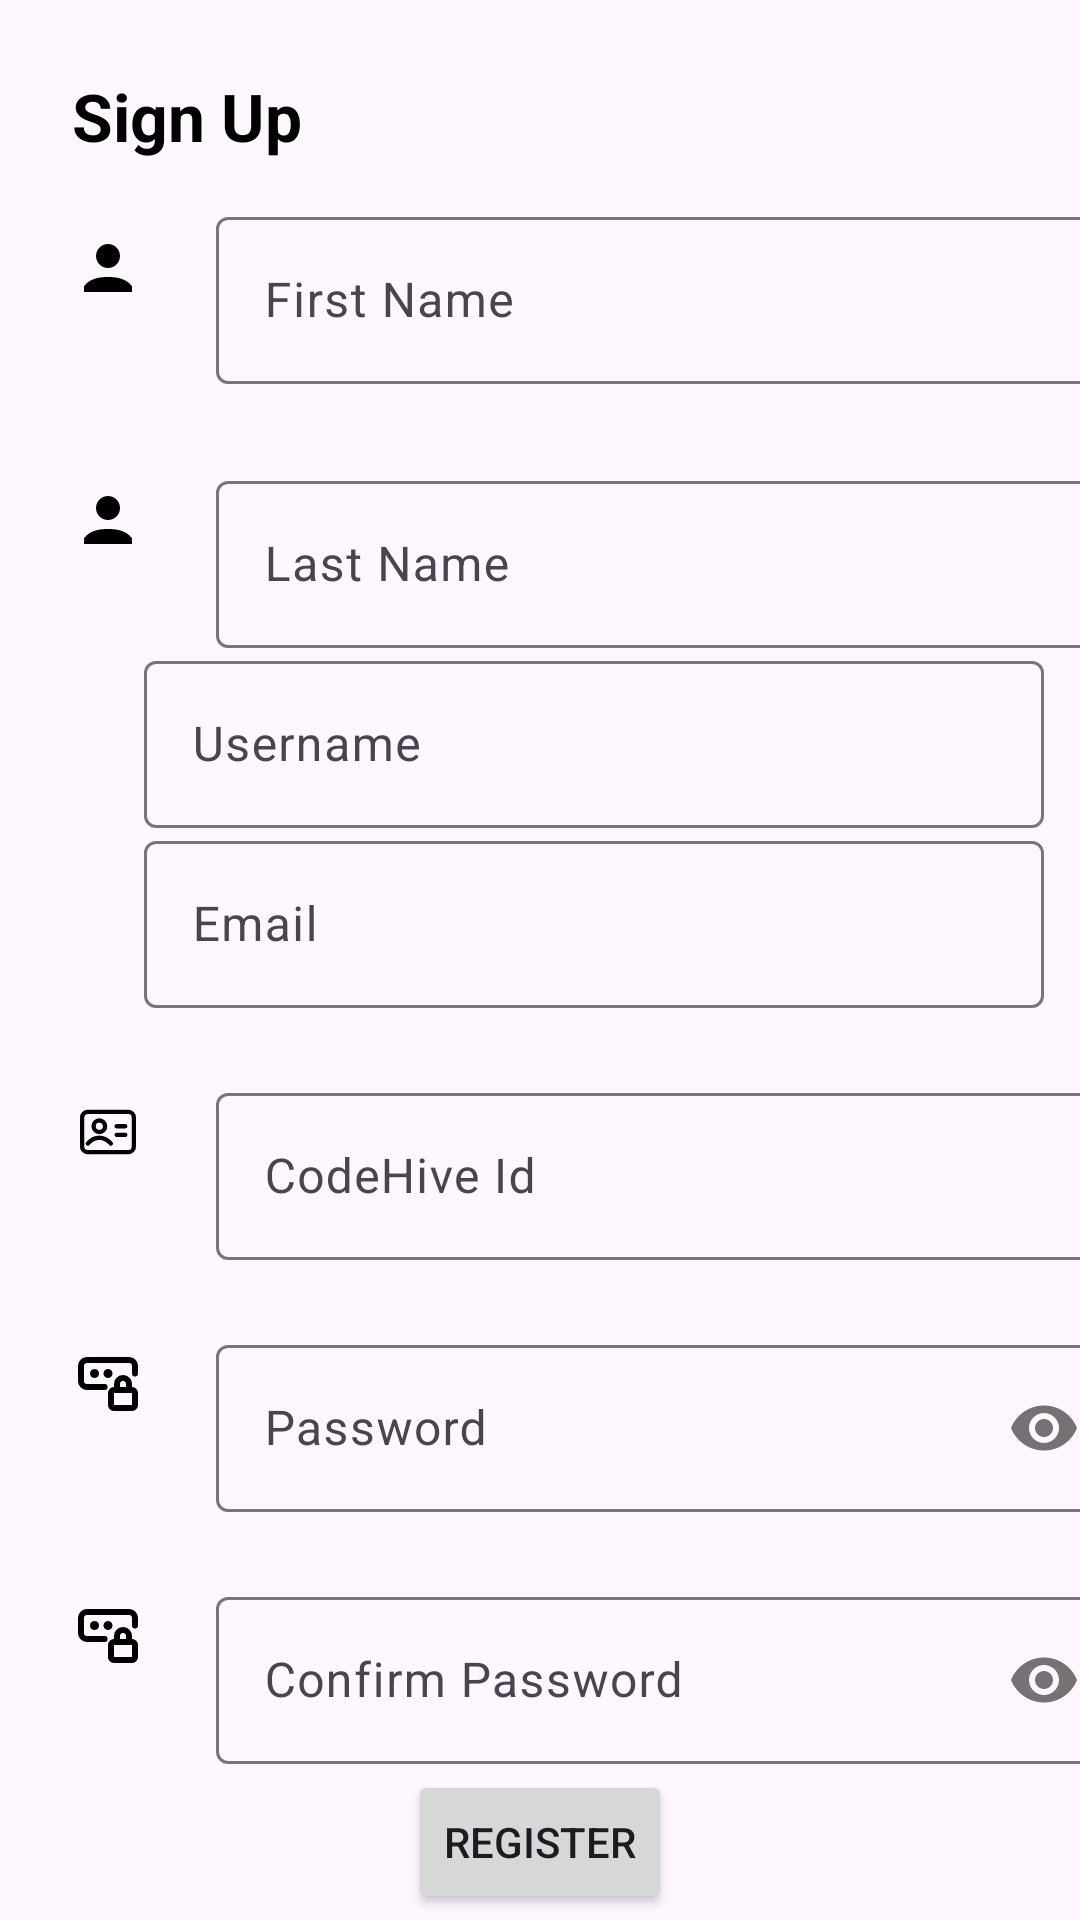

Locate icon controls on the screen. Image size 1080*1920, boxes as Rect(x1, y1, x2, y2).
id card: Rect(80, 1109, 136, 1155)
